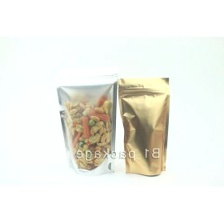snack: (51, 61, 124, 180), (115, 70, 176, 180)
